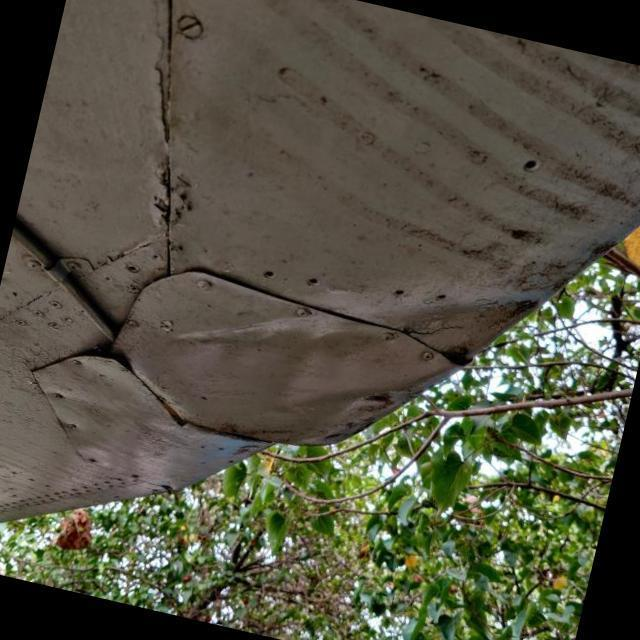Dent: (145, 198, 548, 478)
